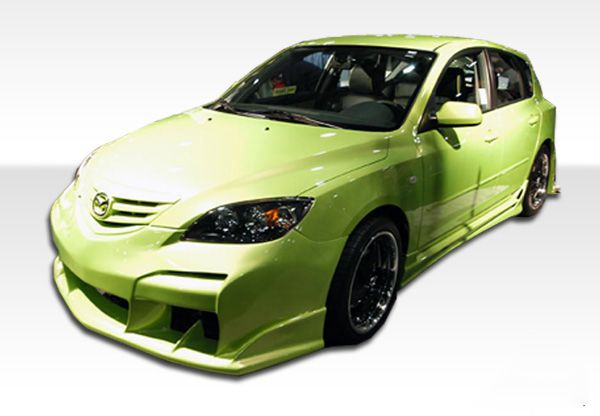Mazda3 Hatchback: (44, 30, 566, 381)
